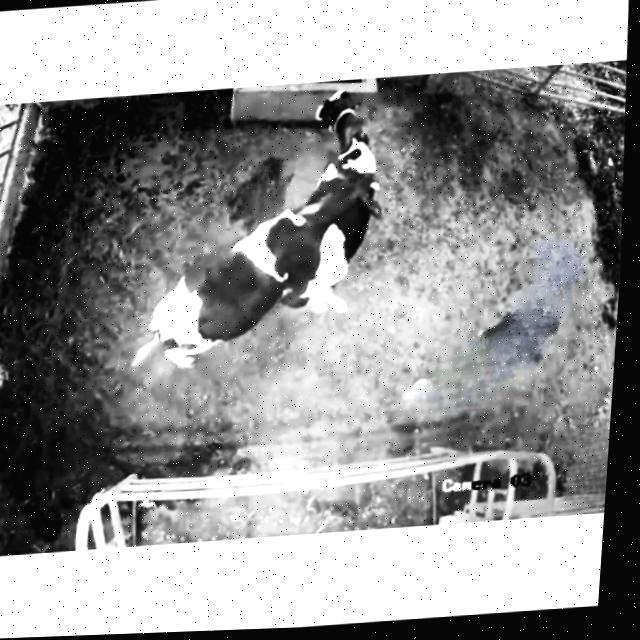ride: (87, 149, 398, 399)
